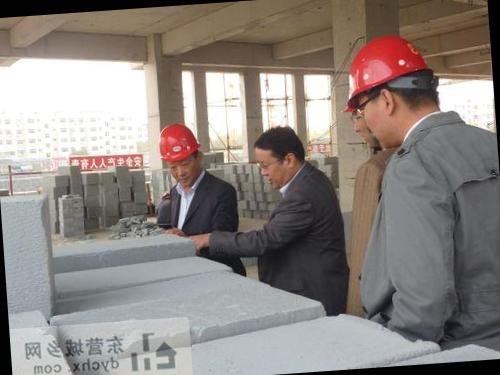no_helmet: (250, 123, 309, 190)
